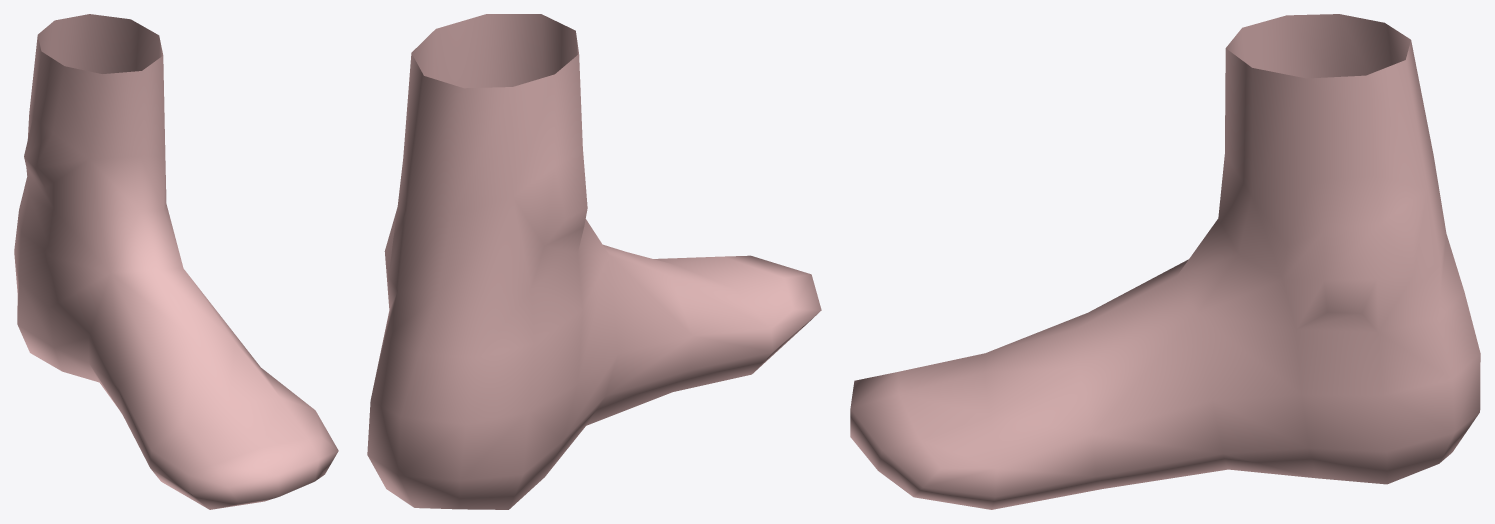
The model's file is Anime_Female_A_Foot02.fbx.
3 views of the same model, side by side, from view 1: azimuth 30°, elevation 25°; view 2: azimuth 150°, elevation 25°; view 3: azimuth 270°, elevation 25° (orthographic). The views are drawn at different scales.
Parts seen in each view (by area): view 1: Anime_Female_A_Foot02; view 2: Anime_Female_A_Foot02; view 3: Anime_Female_A_Foot02.
Part boxes in pixels (x1,y1,x2,y2): Anime_Female_A_Foot02: (14,14,338,509); Anime_Female_A_Foot02: (367,14,821,509); Anime_Female_A_Foot02: (850,14,1480,509).
Size of the model in its own units: 0.5203 by 0.9683 by 1.32.
